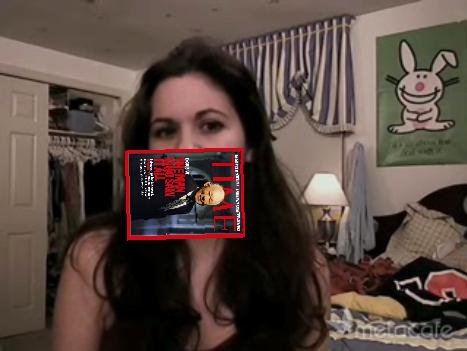times: (124, 144, 243, 244)
